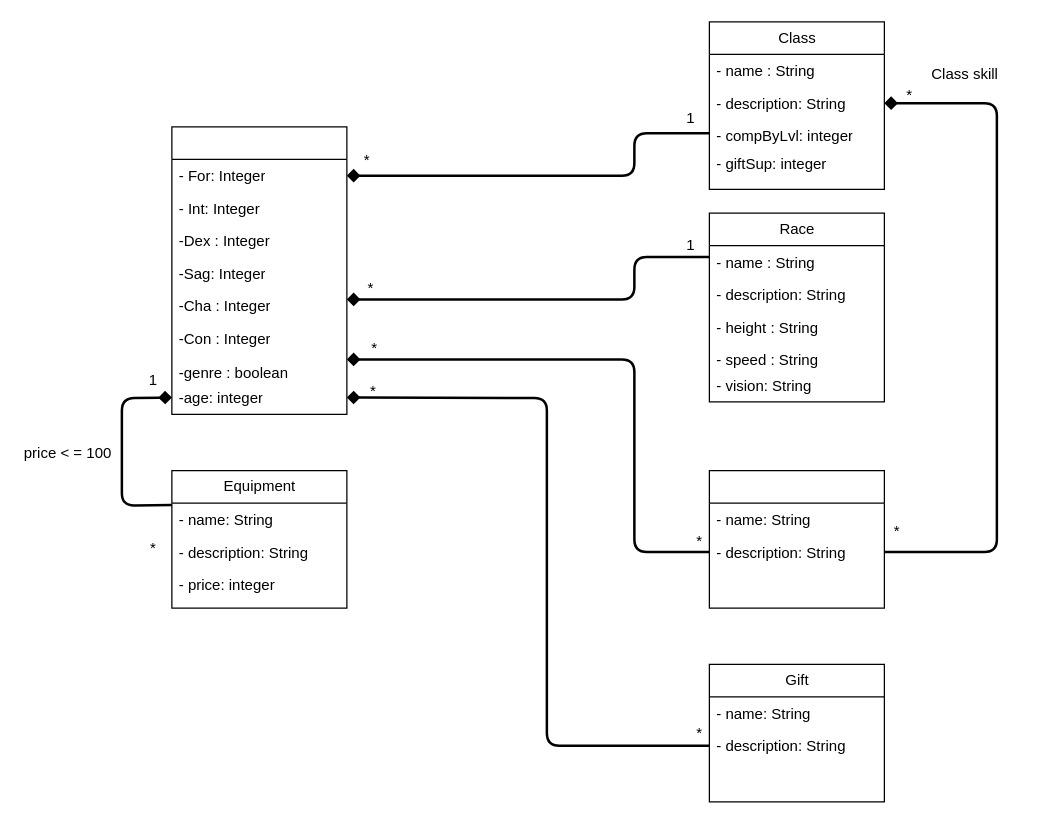
Some shapes in this 1038 by 824 pixel diagram are drawn without their labels. The shapes that lost their labels are listed below. From the top down, each one's box as (x1, y1, x2, y2) in pixels, then its label:
(171, 126, 347, 414): Character
(708, 469, 884, 608): Skill
